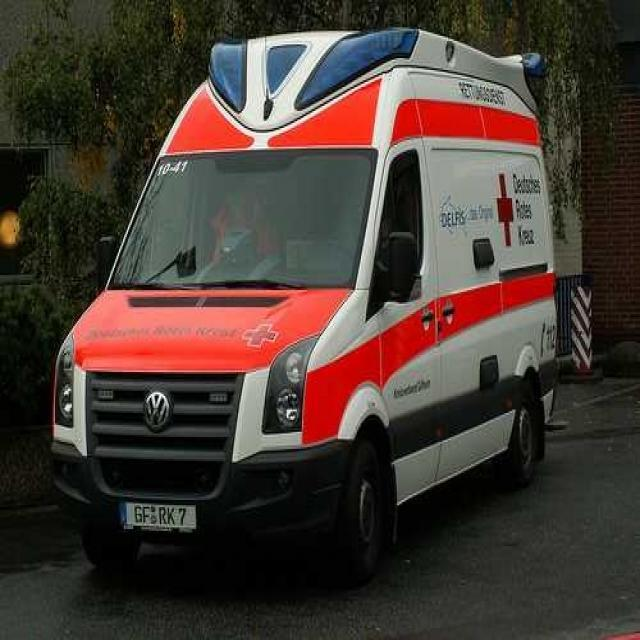emergency-vehicle: (46, 15, 575, 596)
